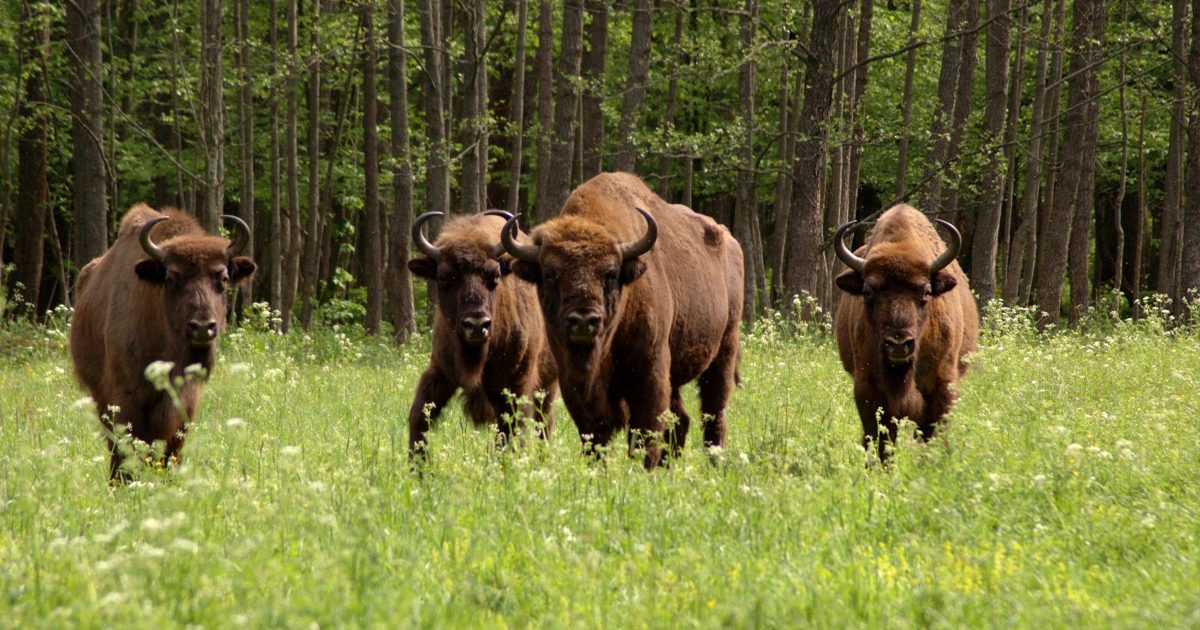zubr: (35, 189, 310, 541), (803, 141, 1003, 477)
